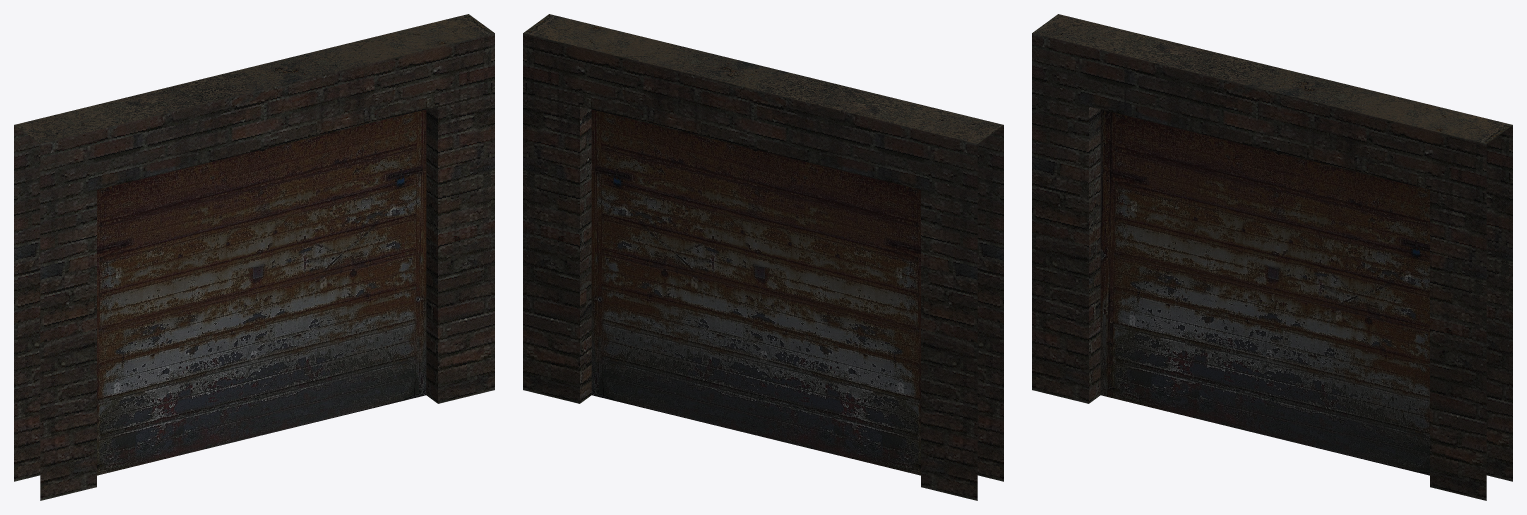
Rendered from garage_door_frame_hs_2.glb.
The picture shows the model from 3 angles, left to right: view 1: azimuth 30°, elevation 25°; view 2: azimuth 150°, elevation 25°; view 3: azimuth 330°, elevation 25°; orthographic projection.
Visible parts, largest first — view 1: garage_door_hm_7, garage_door_frame_hs_2; view 2: garage_door_hm_7, garage_door_frame_hs_2; view 3: garage_door_hm_7, garage_door_frame_hs_2.
Boxes of the visible parts, box(x1,y1,x2,y2) form: garage_door_hm_7: box(97, 109, 426, 475); garage_door_frame_hs_2: box(14, 14, 494, 500); garage_door_hm_7: box(591, 109, 920, 475); garage_door_frame_hs_2: box(523, 14, 1003, 500); garage_door_hm_7: box(1100, 109, 1429, 475); garage_door_frame_hs_2: box(1032, 14, 1512, 500).
Size of the model in its own units: 4 by 3 by 0.4.
Materials: 3 (3 with a texture image).
